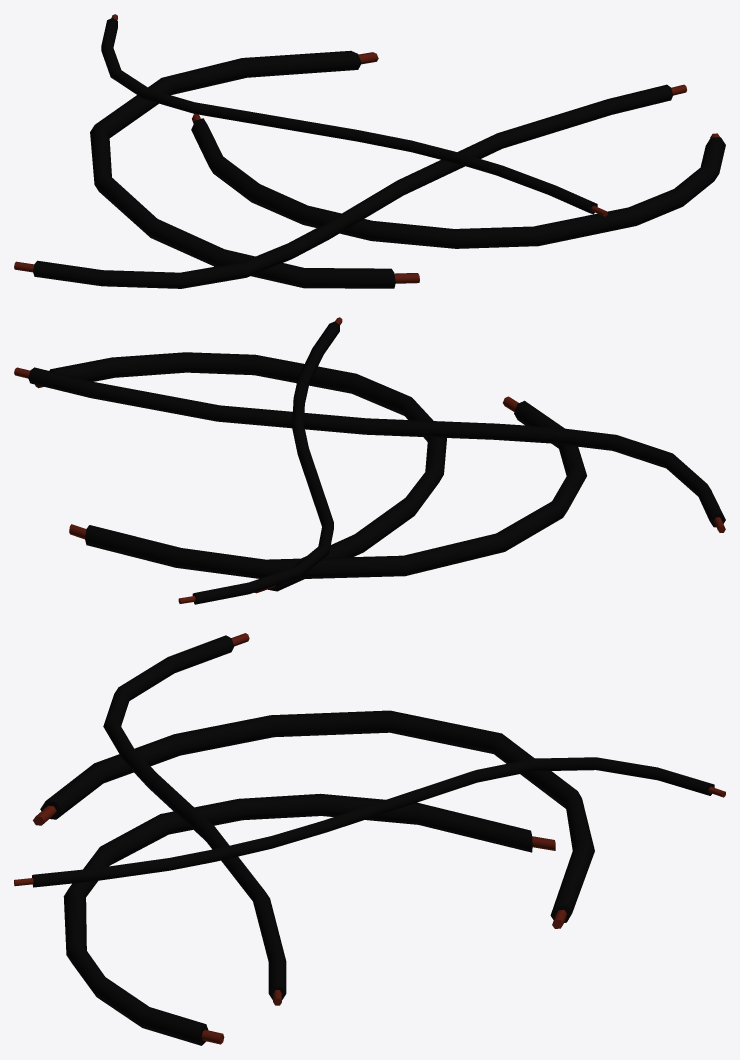
Rendered from CopperWire.fbx.
3 renders of one model, top to bottom at view 1: azimuth 30°, elevation 25°; view 2: azimuth 150°, elevation 25°; view 3: azimuth 270°, elevation 25°, orthographic. The views are drawn at different scales.
Visible parts, largest first — view 1: CopperWire; view 2: CopperWire; view 3: CopperWire.
Part boxes in pixels (x1,y1,x2,y2): CopperWire: (14, 14, 725, 288); CopperWire: (14, 317, 725, 604); CopperWire: (14, 633, 725, 1045).
Size of the model in its own units: 557 by 452 by 45.12.
